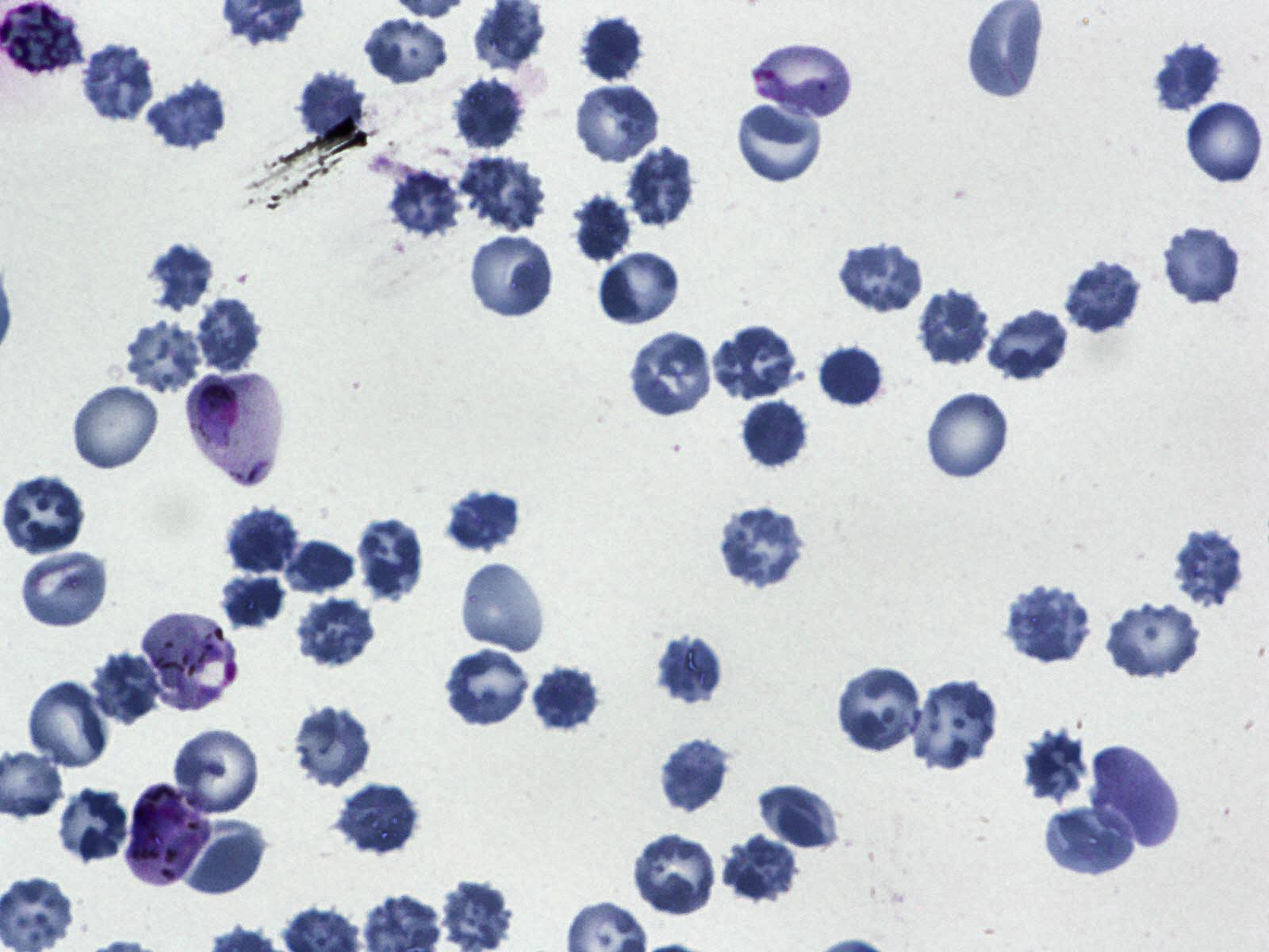Infected: (188, 372, 286, 482), (139, 611, 236, 713), (128, 781, 212, 887), (750, 40, 853, 124)
Uninfected: (1090, 745, 1180, 850), (909, 679, 1003, 772), (169, 725, 262, 817), (69, 382, 160, 473), (458, 560, 546, 654), (734, 97, 826, 185), (925, 389, 1012, 482), (1102, 598, 1201, 679), (25, 681, 113, 772), (628, 330, 715, 418), (835, 665, 924, 750), (571, 81, 662, 164), (469, 234, 555, 321), (289, 701, 374, 789), (21, 547, 112, 629), (457, 154, 548, 233), (632, 835, 719, 917), (717, 507, 804, 589), (119, 320, 207, 401), (1044, 804, 1137, 879), (443, 648, 531, 727), (0, 475, 86, 555), (1186, 102, 1267, 186), (713, 322, 799, 400), (331, 777, 419, 853), (358, 13, 450, 85), (1008, 587, 1092, 665), (182, 819, 268, 895), (838, 240, 926, 314), (144, 76, 229, 152), (987, 305, 1071, 381), (1164, 225, 1242, 306), (597, 251, 681, 326), (753, 785, 844, 854), (1064, 259, 1144, 337), (293, 593, 378, 666), (80, 42, 157, 122), (1174, 526, 1249, 608), (626, 144, 698, 229), (355, 519, 426, 602), (53, 787, 131, 862), (918, 287, 991, 367), (90, 651, 165, 727), (656, 629, 728, 708), (721, 832, 799, 904), (194, 295, 263, 374), (443, 486, 523, 554), (454, 76, 526, 151), (661, 738, 731, 814), (226, 507, 300, 576), (443, 881, 514, 952), (740, 399, 809, 472), (581, 13, 651, 84), (1149, 44, 1221, 113), (527, 665, 599, 733), (389, 171, 460, 239), (819, 343, 889, 411), (297, 68, 364, 139), (1023, 729, 1087, 802), (145, 246, 219, 306), (283, 535, 358, 593), (574, 190, 634, 261), (221, 574, 284, 631)
